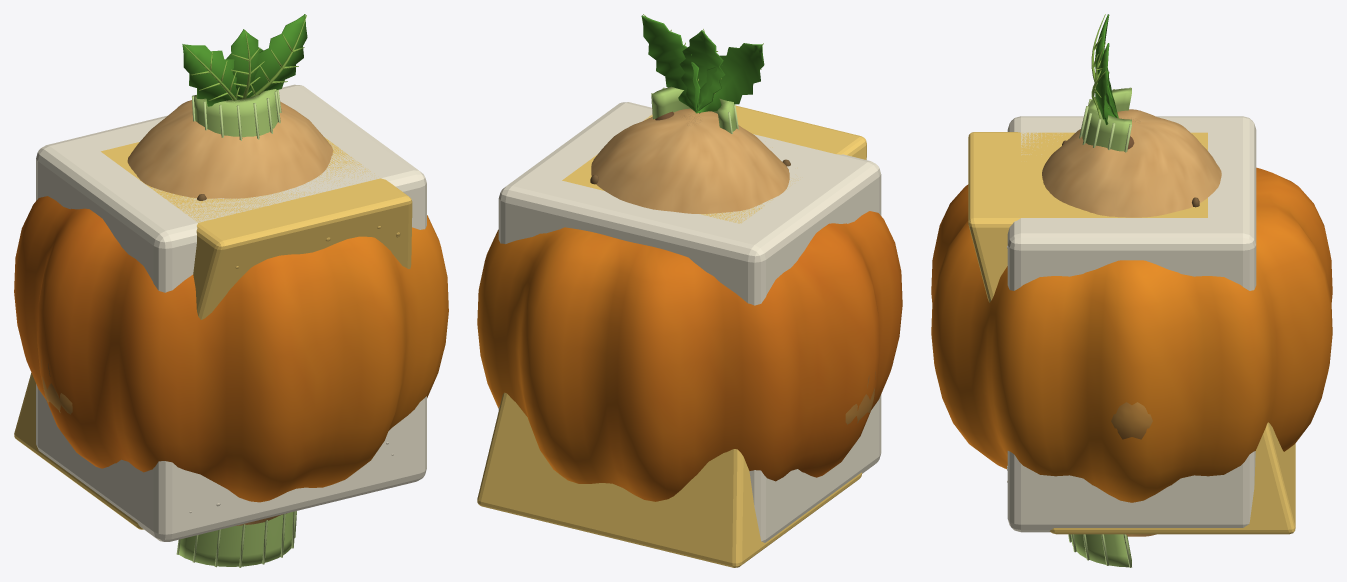
Rendered from typeslasher-pantry-pack.glb.
3 renders of one model, left to right at view 1: azimuth 30°, elevation 25°; view 2: azimuth 150°, elevation 25°; view 3: azimuth 270°, elevation 25°, orthographic. The views are drawn at different scales.
Visible parts, largest first — view 1: food_pumpkin Painted pantry sculpted skin, food_tofu tofu solid surface, food_cheese cheese solid surface, food_bread Painted bakery crust, food_tofu_left tofu solid surface, food_celery Celery tender green rib, food_celery Leaf green, food_cheese_left cheese solid surface, food_tofu_right tofu solid surface, food_cheese_right cheese solid surface, food_celery Celery fine pale ribs, food_celery Leaf vein; view 2: food_pumpkin Painted pantry sculpted skin, food_tofu tofu solid surface, food_cheese cheese solid surface, food_bread Painted bakery crust, food_cheese_left cheese solid surface, food_cheese_right cheese solid surface, food_celery Leaf green, food_tofu_right tofu solid surface, food_tofu_left tofu solid surface, food_celery Celery tender green rib; view 3: food_pumpkin Painted pantry sculpted skin, food_tofu tofu solid surface, food_cheese cheese solid surface, food_bread Painted bakery crust, food_celery Celery tender green rib, food_tofu_right tofu solid surface, food_tofu_left tofu solid surface, food_cheese_right cheese solid surface, food_celery Leaf green, food_croissant Painted bakery crust, food_celery Celery fine pale ribs.
Part boxes in pixels (<box>): food_pumpkin Painted pantry sculpted skin: <box>14,196,448,502</box>; food_tofu tofu solid surface: <box>36,84,426,541</box>; food_cheese cheese solid surface: <box>14,137,412,529</box>; food_bread Painted bakery crust: <box>127,100,333,525</box>; food_tofu_left tofu solid surface: <box>51,116,295,541</box>; food_celery Celery tender green rib: <box>178,89,293,566</box>; food_celery Leaf green: <box>182,14,307,106</box>; food_cheese_left cheese solid surface: <box>102,143,316,315</box>; food_tofu_right tofu solid surface: <box>279,85,419,510</box>; food_cheese_right cheese solid surface: <box>279,138,408,267</box>; food_celery Celery fine pale ribs: <box>176,89,296,567</box>; food_celery Leaf vein: <box>183,15,306,100</box>; food_pumpkin Painted pantry sculpted skin: <box>477,211,902,501</box>; food_tofu tofu solid surface: <box>498,102,881,542</box>; food_cheese cheese solid surface: <box>477,105,866,567</box>; food_bread Painted bakery crust: <box>591,108,789,213</box>; food_cheese_left cheese solid surface: <box>606,115,858,567</box>; food_cheese_right cheese solid surface: <box>480,106,770,536</box>; food_celery Leaf green: <box>641,15,764,113</box>; food_tofu_right tofu solid surface: <box>505,102,651,243</box>; food_tofu_left tofu solid surface: <box>626,154,868,301</box>; food_celery Celery tender green rib: <box>652,86,736,132</box>; food_pumpkin Painted pantry sculpted skin: <box>931,167,1332,502</box>; food_tofu tofu solid surface: <box>1007,116,1256,532</box>; food_cheese cheese solid surface: <box>968,132,1295,534</box>; food_bread Painted bakery crust: <box>1042,109,1221,536</box>; food_celery Celery tender green rib: <box>1070,88,1131,567</box>; food_tofu_right tofu solid surface: <box>1007,175,1256,244</box>; food_tofu_left tofu solid surface: <box>1008,117,1256,184</box>; food_cheese_right cheese solid surface: <box>968,176,1295,522</box>; food_celery Leaf green: <box>1095,14,1118,124</box>; food_croissant Painted bakery crust: <box>1111,402,1152,439</box>; food_celery Celery fine pale ribs: <box>1068,87,1131,567</box>.
Size of the model in its own units: 2.09 by 2.75 by 2.
